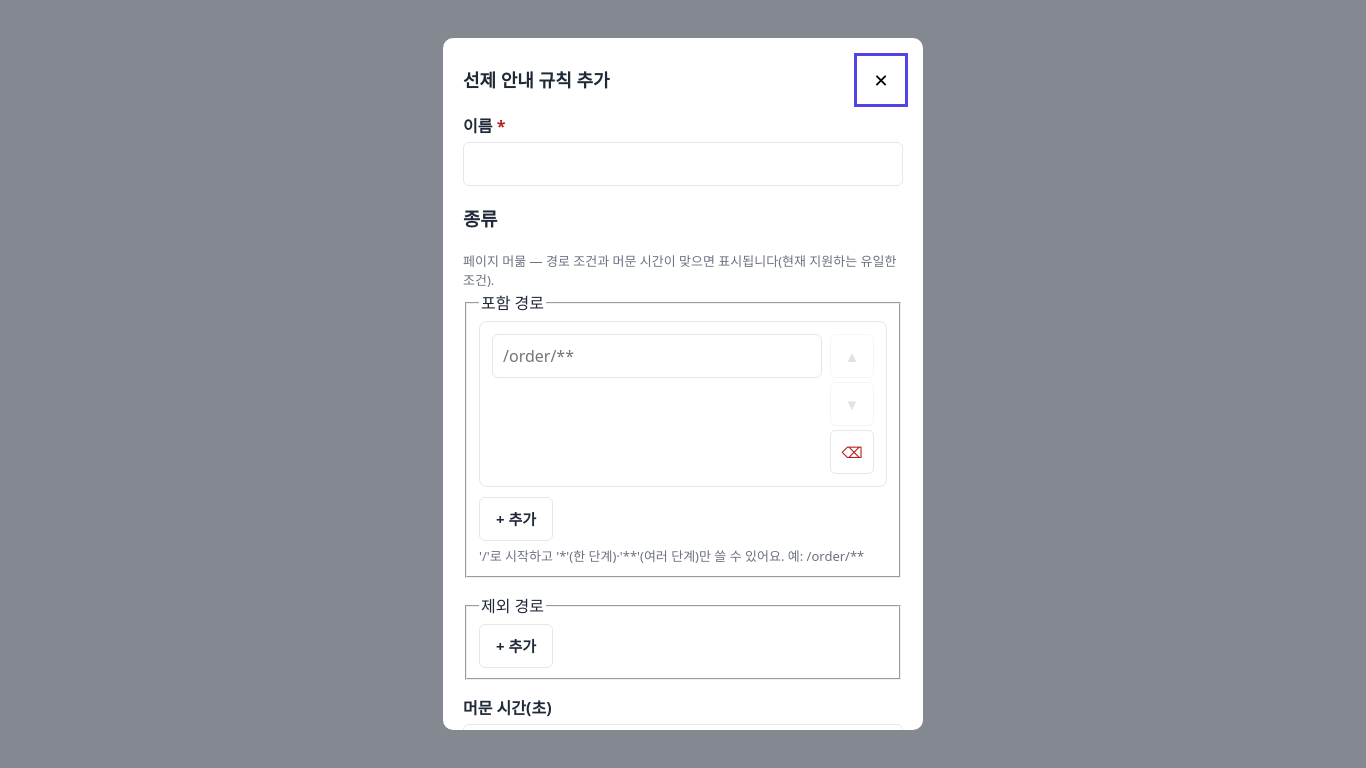
it: ProactiveRuleEditModal — PA-C4(용도 확인 강제 · 문구 상한 · 저장) › 포함 경로가 없으면 저장할 수 없다
This screenshot has width=1366, height=768.
Type "이름" into the field labelled "이름 *". click: (683, 164)
box: [463, 142, 903, 186]
(page scrolled)
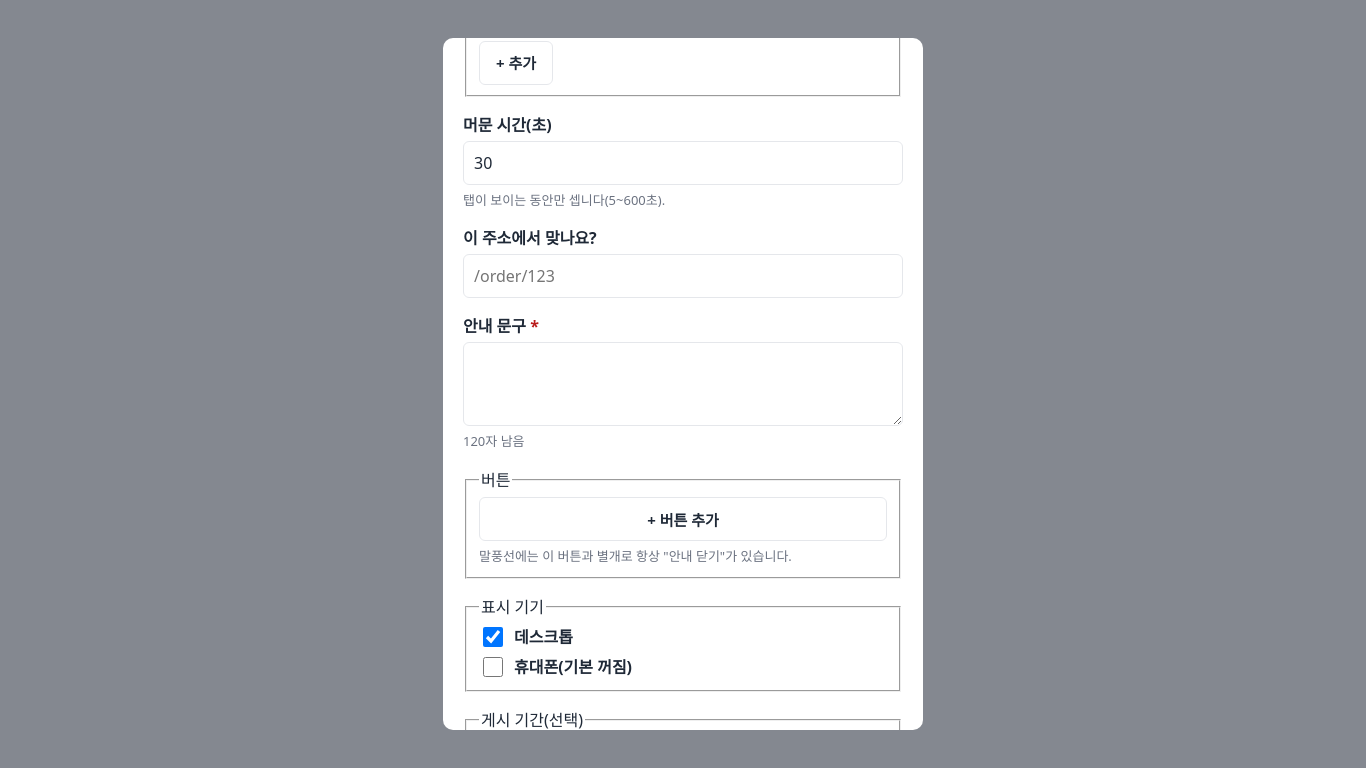
Type "문구" into the text box labelled "안내 문구 *". click: (683, 384)
box: [463, 342, 903, 426]
(page scrolled)
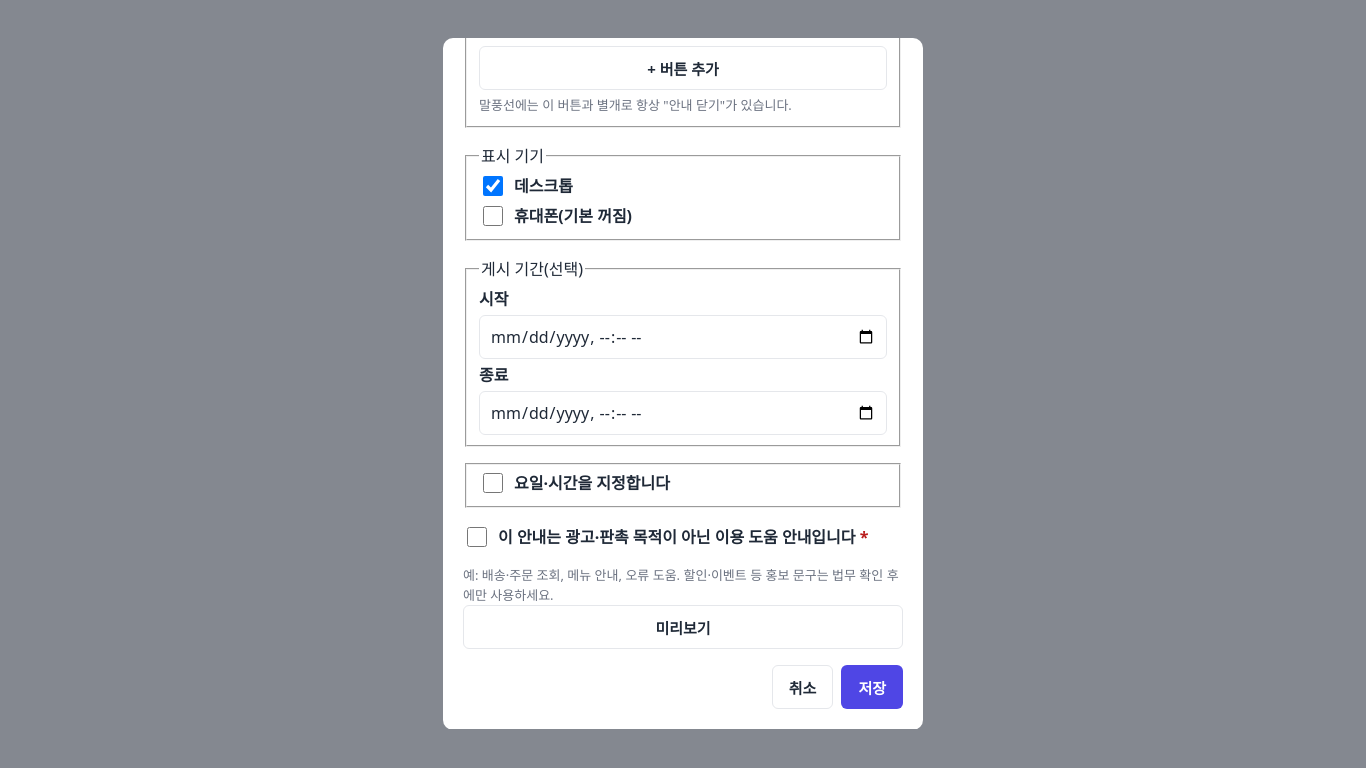
Click the checkbox labelled "이 안내는 광고·판촉 목적이 아닌 이용 도움 안내입니다 *". click: (477, 538)
box: [467, 528, 487, 548]
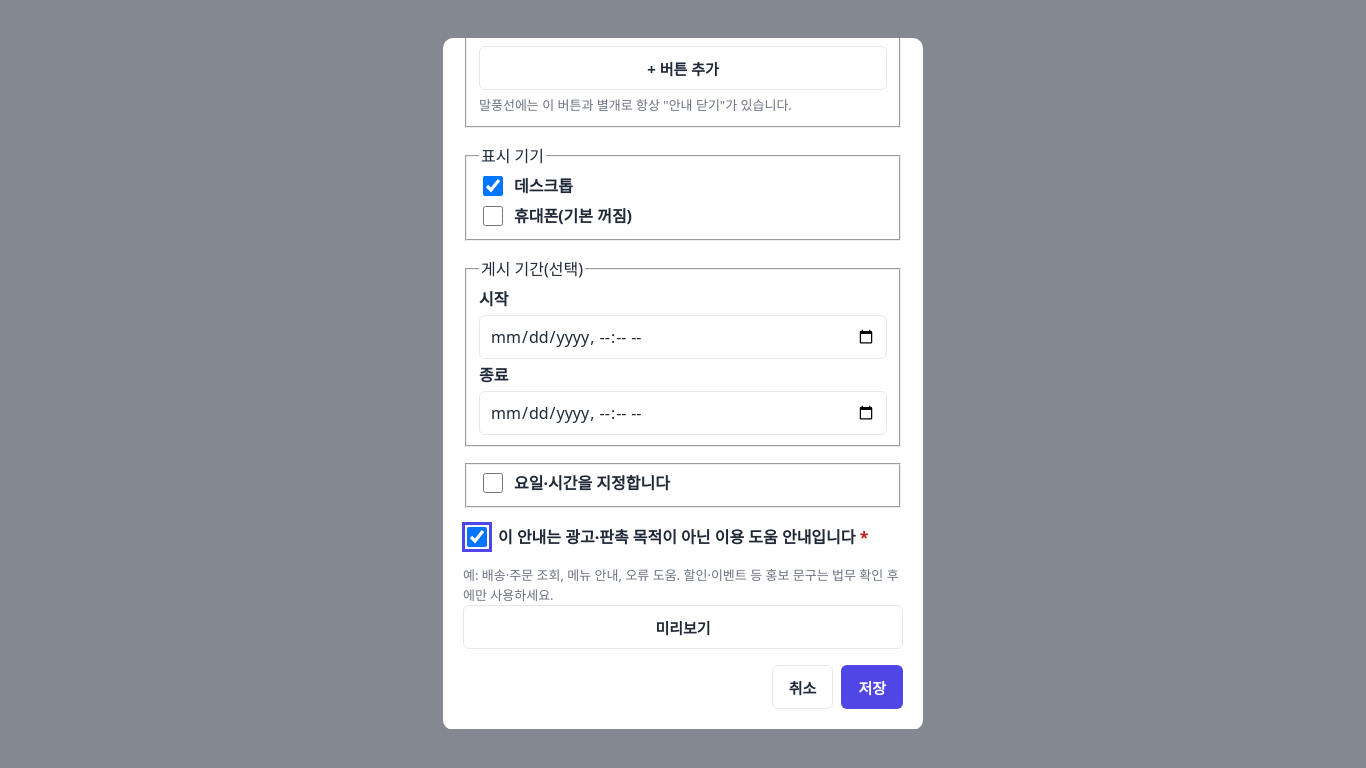
Click the button "저장". click: (872, 688)
box: [841, 666, 903, 710]
(page scrolled)
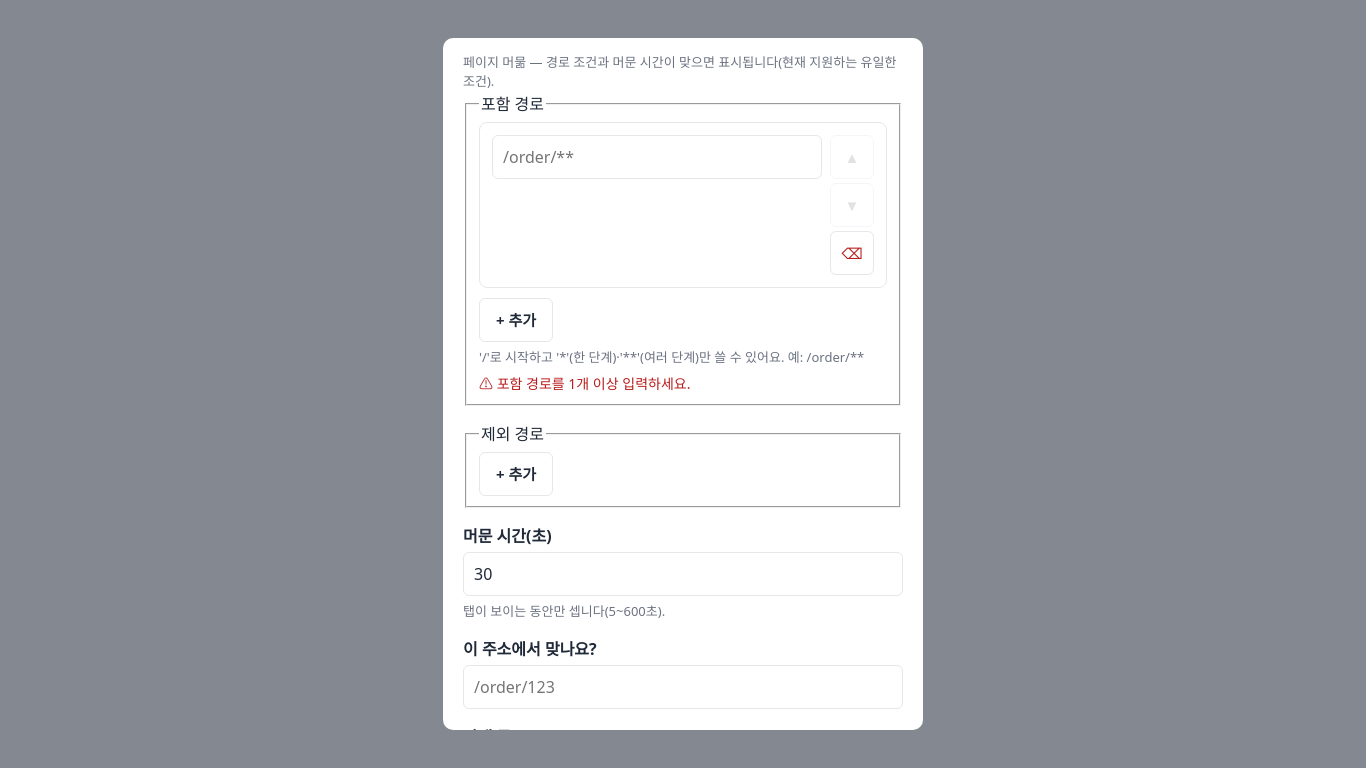
Result: the text "포함 경로를 1개 이상 입력하세요." is shown at [497, 374, 690, 393]
